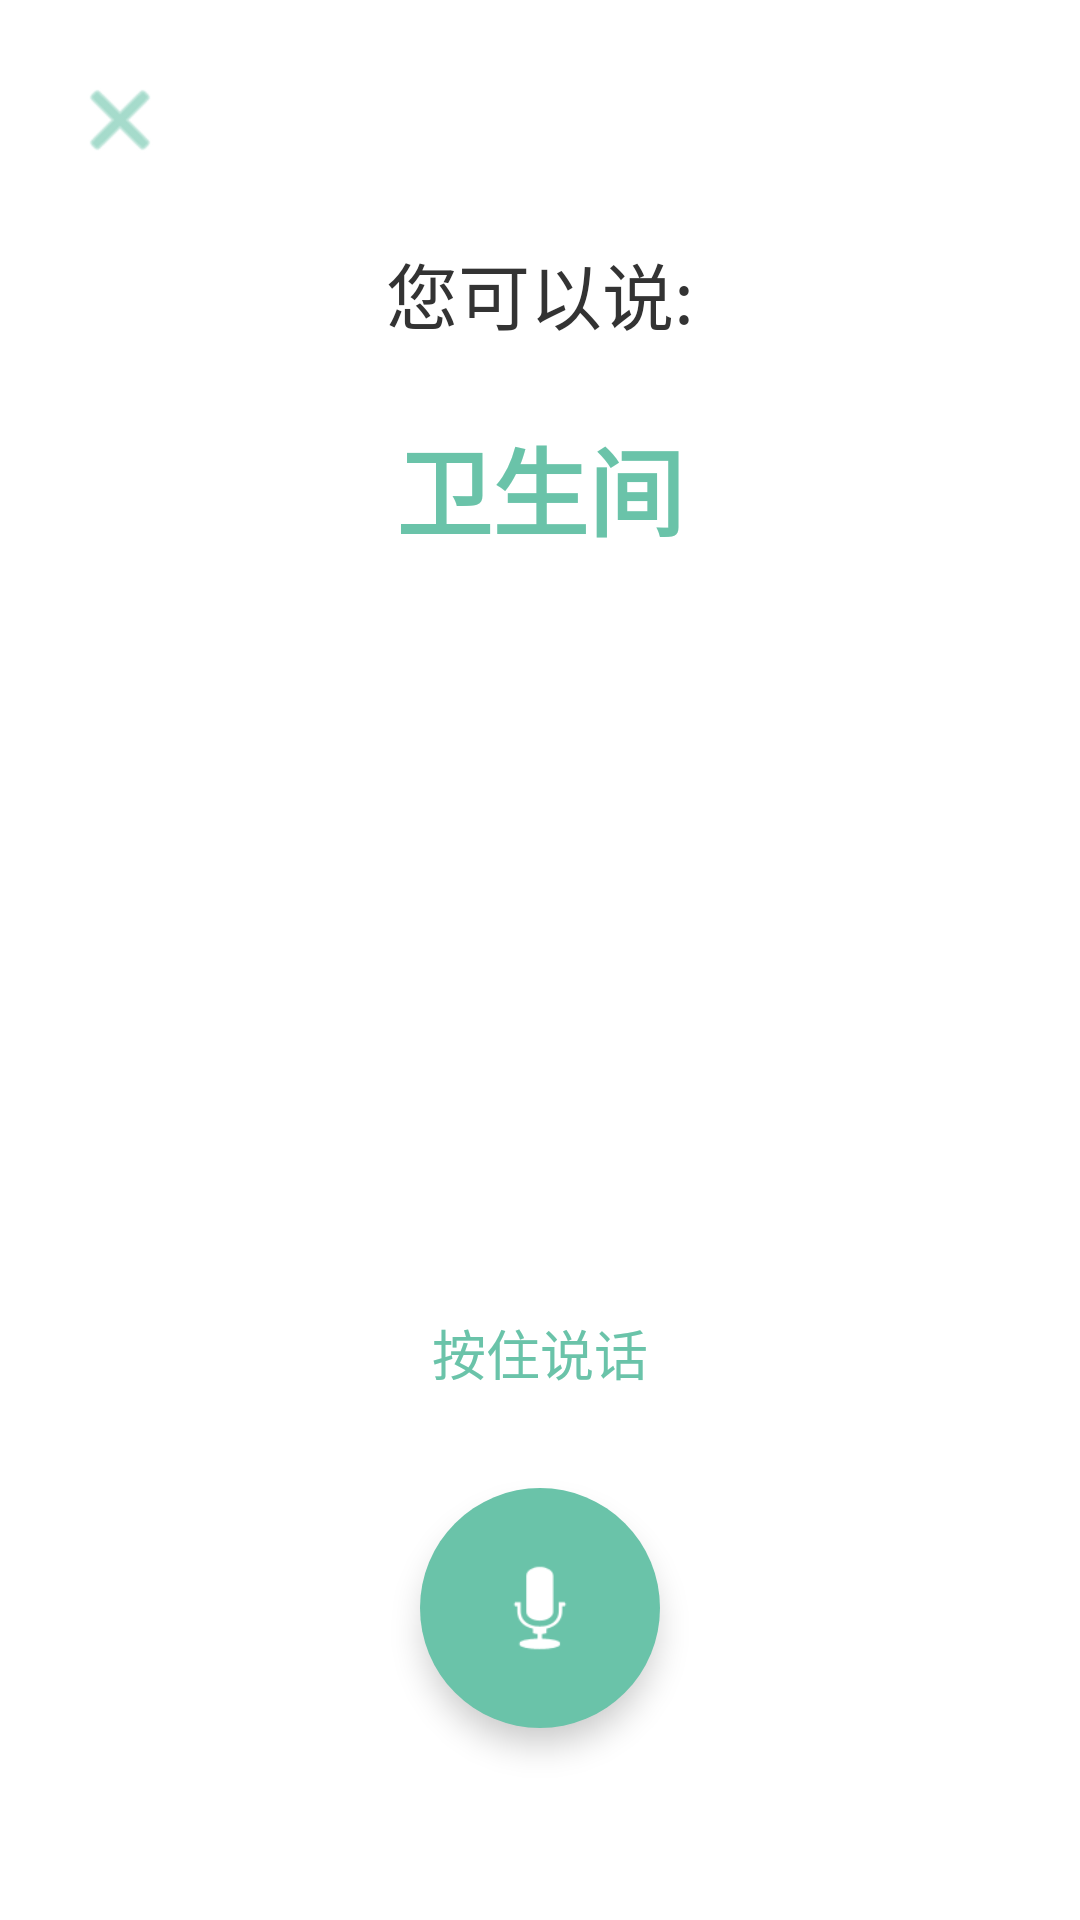

Where icons sit on this 1080px×1920px app screen, as (x1, y1, x2, y2):
语音识别: (420, 1488, 660, 1728)
返回: (90, 90, 150, 150)
